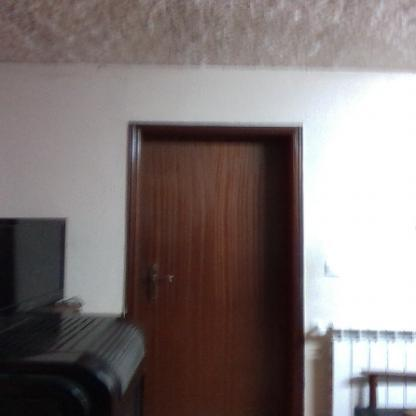door: (141, 138, 291, 416)
lever: (151, 272, 178, 284)
